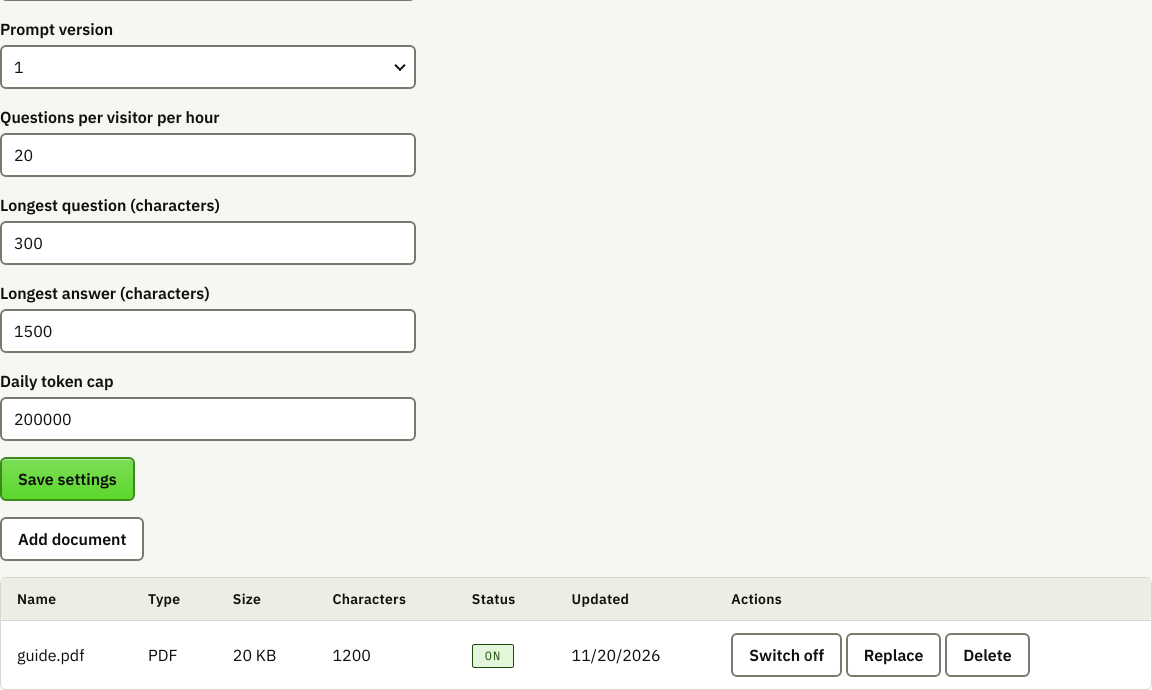
chatbot admin page › deletes a document only after a confirmation
(page scrolled)
Check: the element named "Documents" is shown, box [0,577,1151,689]
Click the button with aria-label "Delete guide.pdf" at (987,655), box [945,633,1030,677]
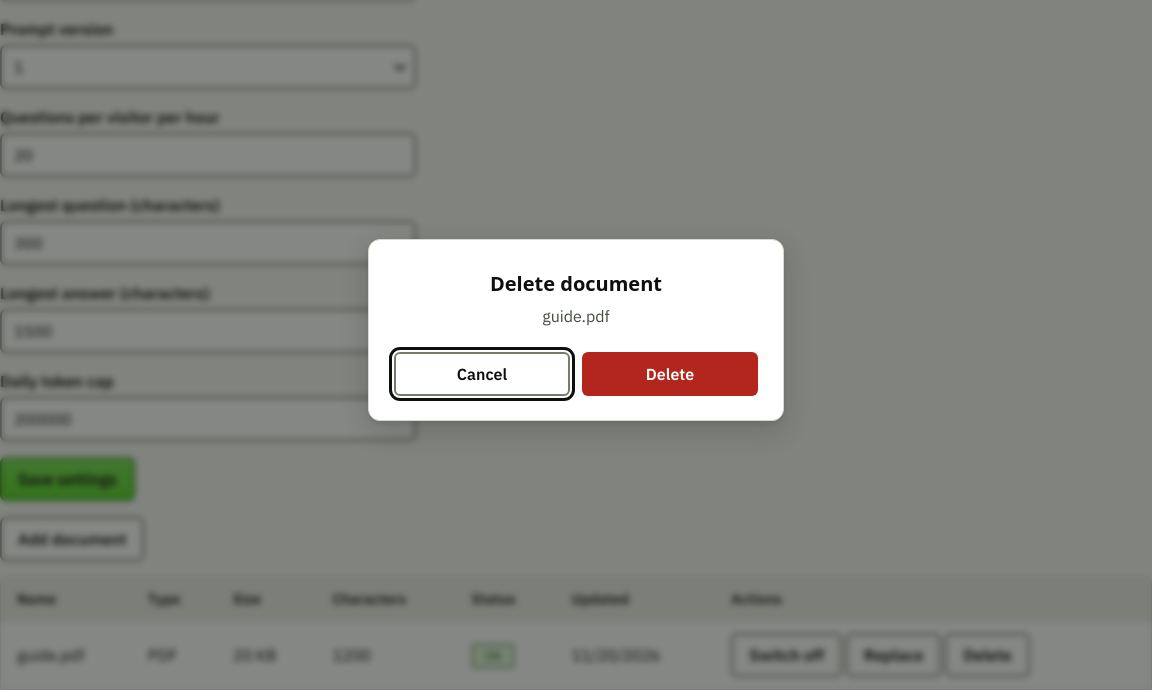
Click the button "Delete" at (670,374), box [582,352,758,396]
(page scrolled)
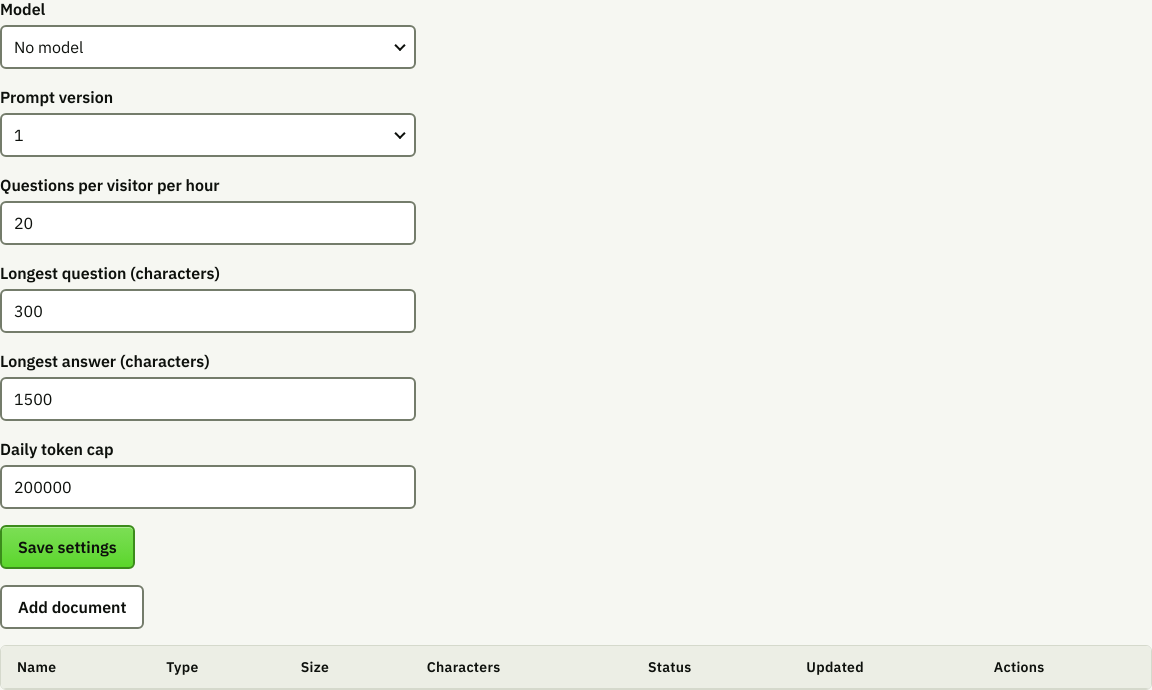
Check: the text "guide.pdf" is gone
